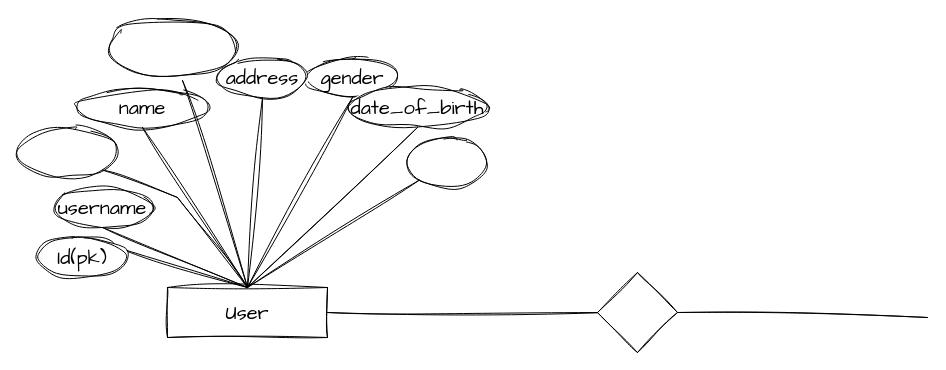
The diagram is 946 pixels wide and 370 high, and some of its shapes have lost their labels. The centre of each missing label's shape, as x and y in pixels:
"email" belongs at (447,162).
"password" belongs at (67,152).
"phone_number" belongs at (172,47).
